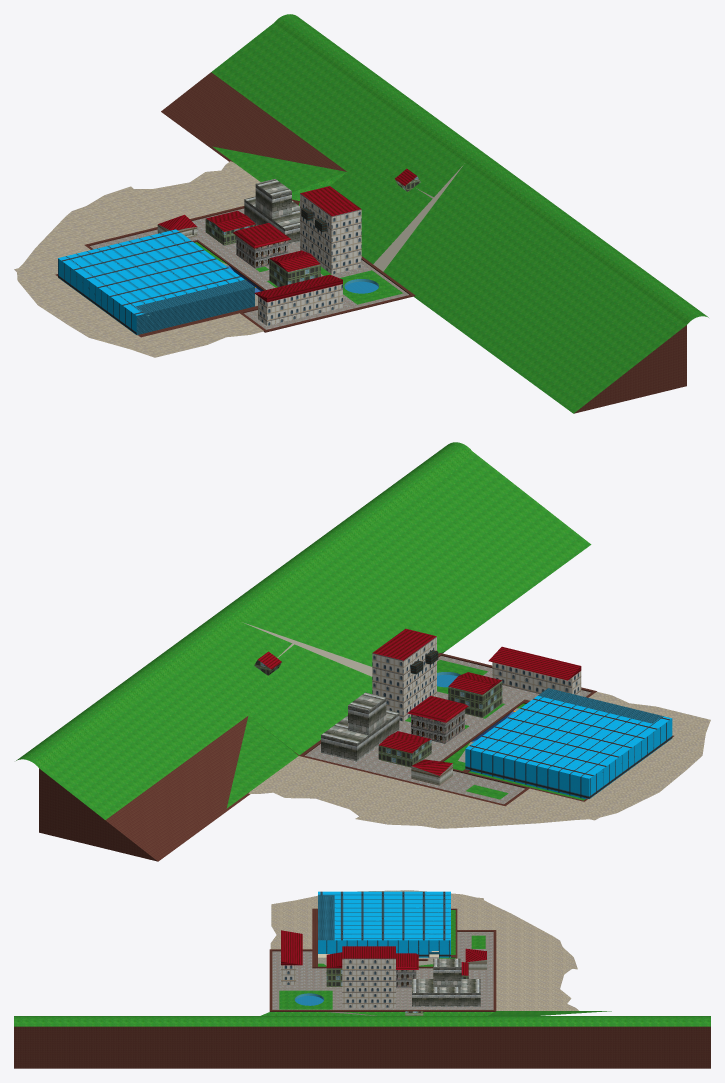
The picture shows the model from 3 angles, top to bottom: view 1: azimuth 30°, elevation 25°; view 2: azimuth 150°, elevation 25°; view 3: azimuth 270°, elevation 25°; orthographic projection. The views are drawn at different scales.
Parts seen in each view (by area): view 1: AqSt2_6_Main-grass, AqSt2_6_Main-Beachsand, AqSt2_6_Main-outwall, AqSt2_6_Main-glasswall, AqSt2_6_Main-House2, AqSt2_6_Main-Roof, AqSt2_6_Main-Blockwall_Outside, AqSt2_6_Main-Solid_Fall, AqSt2_6_Main-House4, AqSt2_6_Main-House1, AqSt2_6_Main-asphalt, AqSt2_6_Main-House3; view 2: AqSt2_6_Main-grass, AqSt2_6_Main-Beachsand, AqSt2_6_Main-outwall, AqSt2_6_Main-glasswall, AqSt2_6_Main-Roof, AqSt2_6_Main-Solid_Fall, AqSt2_6_Main-House2, AqSt2_6_Main-House4, AqSt2_6_Main-House1, AqSt2_6_Main-Blockwall_Outside, AqSt2_6_Main-House3, AqSt2_6_Main-asphalt; view 3: AqSt2_6_Main-outwall, AqSt2_6_Main-grass, AqSt2_6_Main-Beachsand, AqSt2_6_Main-glasswall, AqSt2_6_Main-Solid_Fall, AqSt2_6_Main-House2, AqSt2_6_Main-House4, AqSt2_6_Main-Roof, AqSt2_6_Main-Blockwall_Outside, AqSt2_6_Main-House1, AqSt2_6_Main-House3.
Part boxes in pixels (<box>): AqSt2_6_Main-grass: <box>194,14,708,413</box>; AqSt2_6_Main-Beachsand: <box>14,161,263,357</box>; AqSt2_6_Main-outwall: <box>55,72,686,413</box>; AqSt2_6_Main-glasswall: <box>58,229,244,334</box>; AqSt2_6_Main-House2: <box>258,193,361,325</box>; AqSt2_6_Main-Roof: <box>158,168,416,302</box>; AqSt2_6_Main-Blockwall_Outside: <box>136,266,262,334</box>; AqSt2_6_Main-Solid_Fall: <box>90,208,409,329</box>; AqSt2_6_Main-House4: <box>244,179,299,244</box>; AqSt2_6_Main-House1: <box>205,176,420,286</box>; AqSt2_6_Main-asphalt: <box>220,163,464,306</box>; AqSt2_6_Main-House3: <box>236,236,287,268</box>; AqSt2_6_Main-grass: <box>16,442,591,819</box>; AqSt2_6_Main-Beachsand: <box>248,692,710,828</box>; AqSt2_6_Main-outwall: <box>39,653,673,861</box>; AqSt2_6_Main-glasswall: <box>465,696,672,799</box>; AqSt2_6_Main-Roof: <box>258,628,581,775</box>; AqSt2_6_Main-Solid_Fall: <box>305,656,591,804</box>; AqSt2_6_Main-House2: <box>372,636,581,721</box>; AqSt2_6_Main-House4: <box>321,692,399,761</box>; AqSt2_6_Main-House1: <box>254,659,502,767</box>; AqSt2_6_Main-Blockwall_Outside: <box>471,688,662,741</box>; AqSt2_6_Main-House3: <box>411,709,464,743</box>; AqSt2_6_Main-asphalt: <box>242,622,519,762</box>; AqSt2_6_Main-outwall: <box>14,908,710,1068</box>; AqSt2_6_Main-grass: <box>14,910,710,1026</box>; AqSt2_6_Main-Beachsand: <box>270,890,578,1010</box>; AqSt2_6_Main-glasswall: <box>318,891,450,957</box>; AqSt2_6_Main-Solid_Fall: <box>272,932,493,1009</box>; AqSt2_6_Main-House2: <box>281,958,395,1007</box>; AqSt2_6_Main-House4: <box>412,958,480,1006</box>; AqSt2_6_Main-Roof: <box>281,930,486,975</box>; AqSt2_6_Main-Blockwall_Outside: <box>318,895,438,954</box>; AqSt2_6_Main-House1: <box>326,968,468,1015</box>; AqSt2_6_Main-House3: <box>396,970,416,987</box>.
Size of the model in its own units: 210892 by 30621 by 344471.
28 materials, 28 textured.
